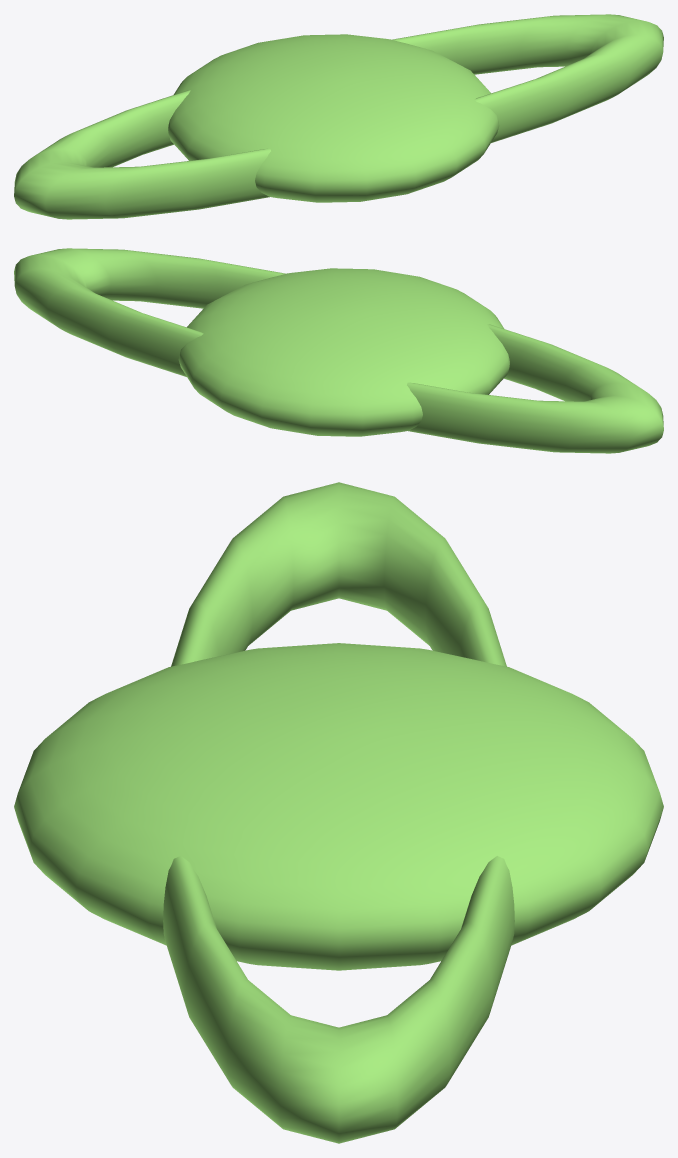
Rendered from planet1_glow.fbx.
3 views of the same model, one above another, from view 1: azimuth 30°, elevation 25°; view 2: azimuth 150°, elevation 25°; view 3: azimuth 270°, elevation 25° (orthographic). The views are drawn at different scales.
Visible parts, largest first — view 1: pSphere1, pTorus1; view 2: pSphere1, pTorus1; view 3: pSphere1, pTorus1.
Boxes of the visible parts, box(x1,y1,x2,y2) form: pSphere1: box(168, 34, 499, 202); pTorus1: box(14, 14, 663, 219); pSphere1: box(178, 268, 509, 436); pTorus1: box(14, 248, 663, 453); pSphere1: box(14, 643, 663, 970); pTorus1: box(163, 482, 514, 1143).
Bounding box in the file's own units: 17.23 × 2.34 × 7.7.
